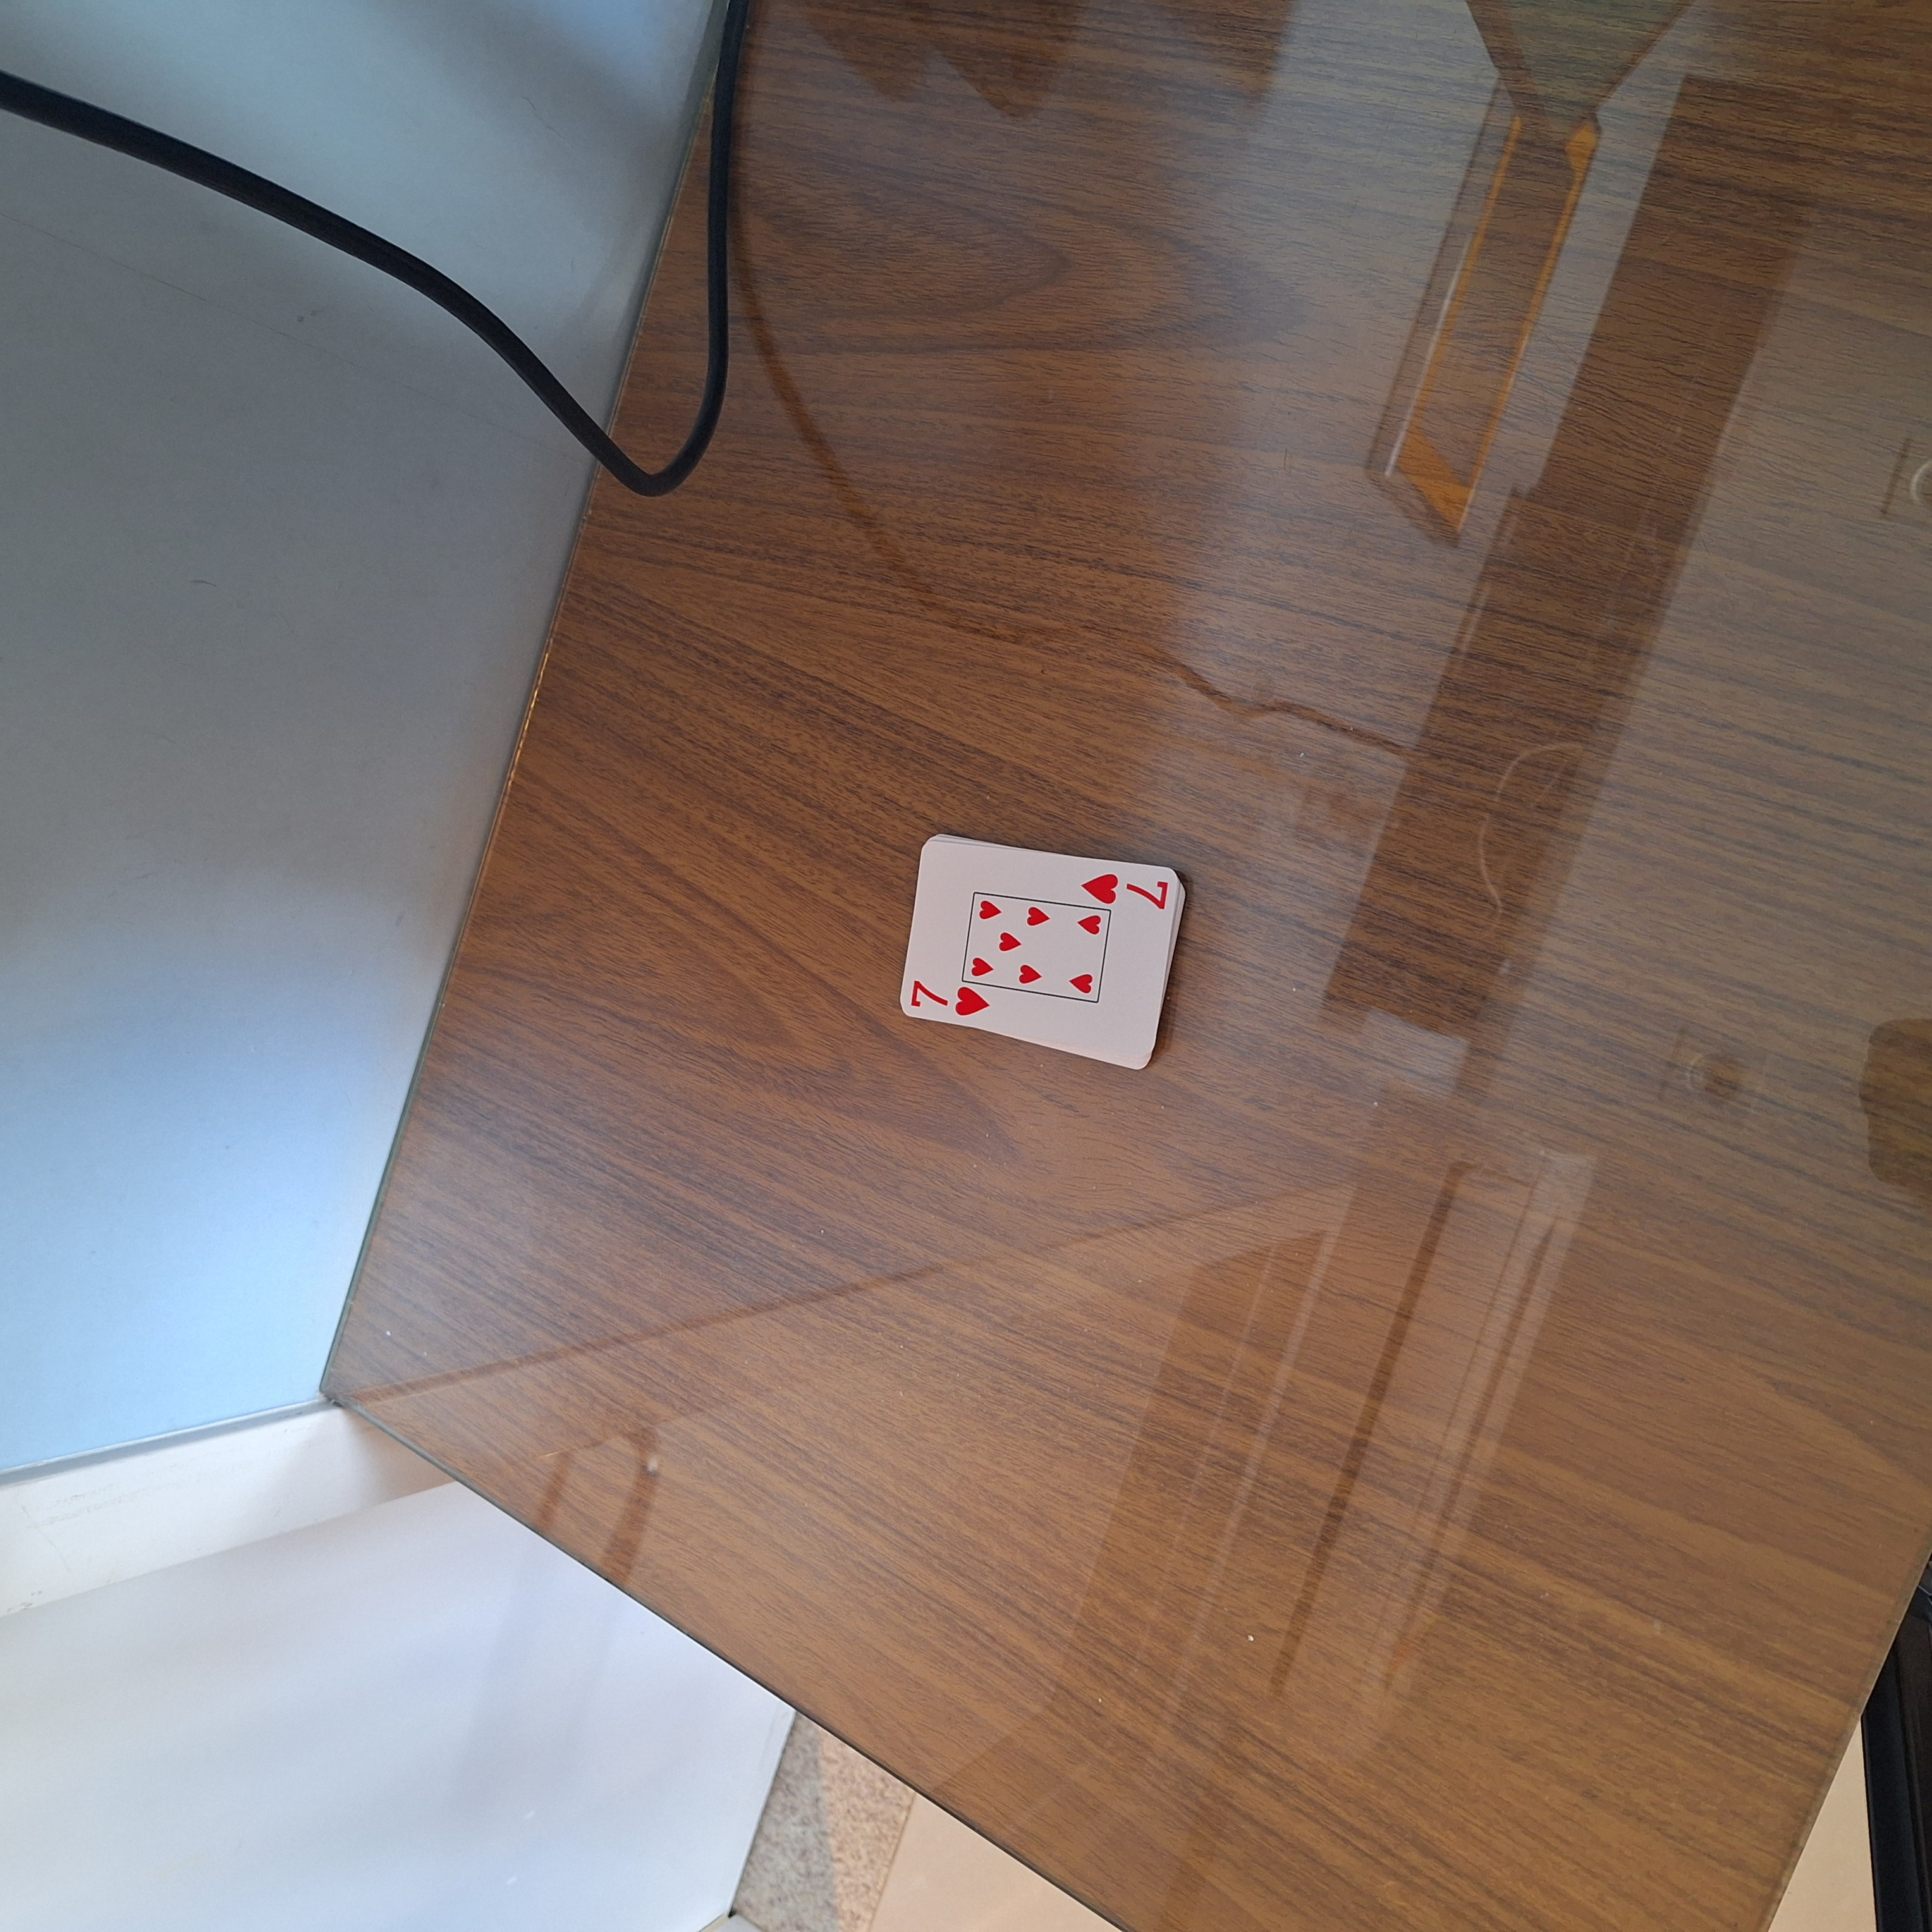7C: (1077, 869, 1175, 915), (904, 977, 994, 1024)
